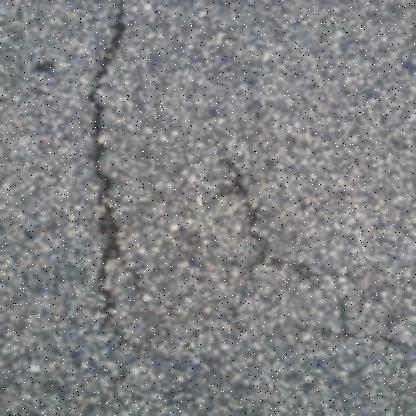Cracks: (212, 150, 416, 356), (72, 0, 141, 339)
